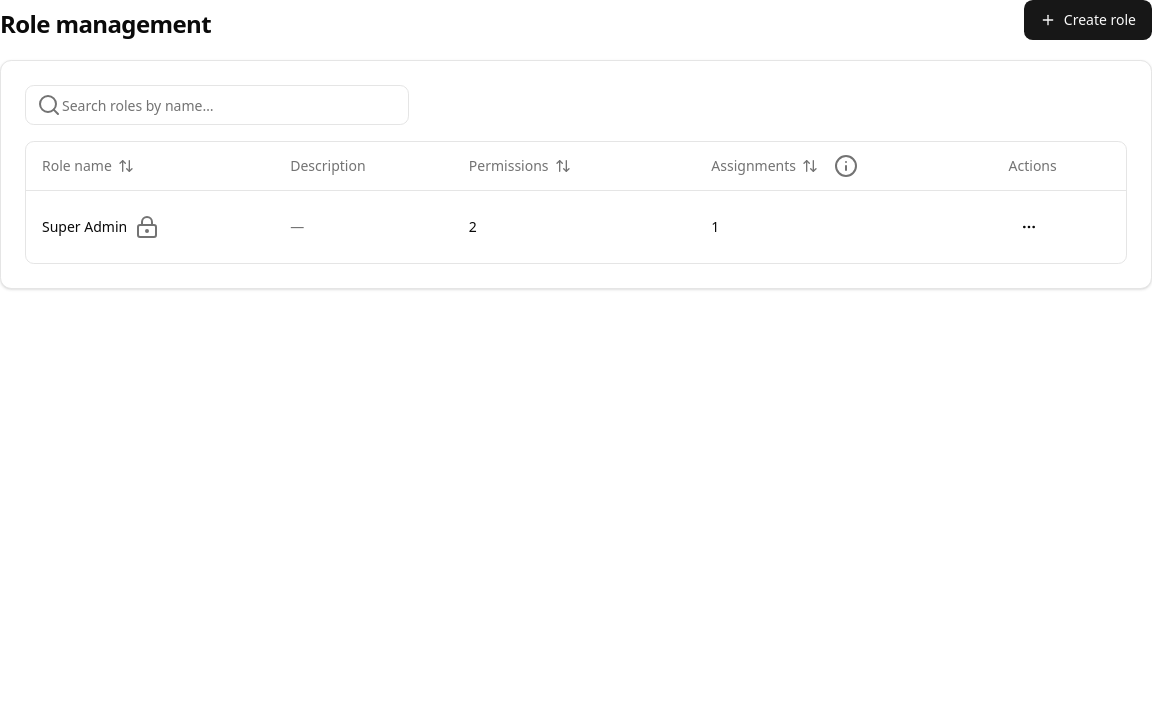
Test: access components › keeps a role draft when its dialog is closed and reopened
The width and height of the screenshot is (1152, 720).
Check: the heading "Role management" is shown, box [0,8,211,40]
Click the button "Create role" at (1088, 20), box [1024,0,1151,40]
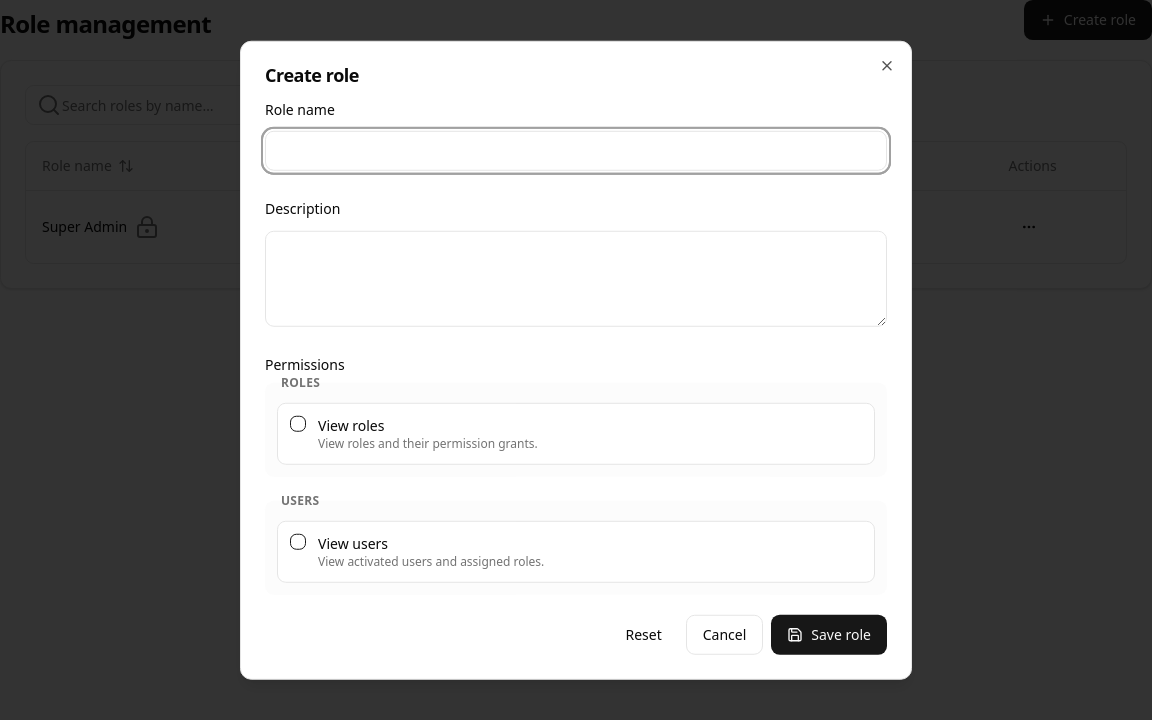
Type "Auditor" into the field labelled "Role name" at (576, 151), box [265,131,887,171]
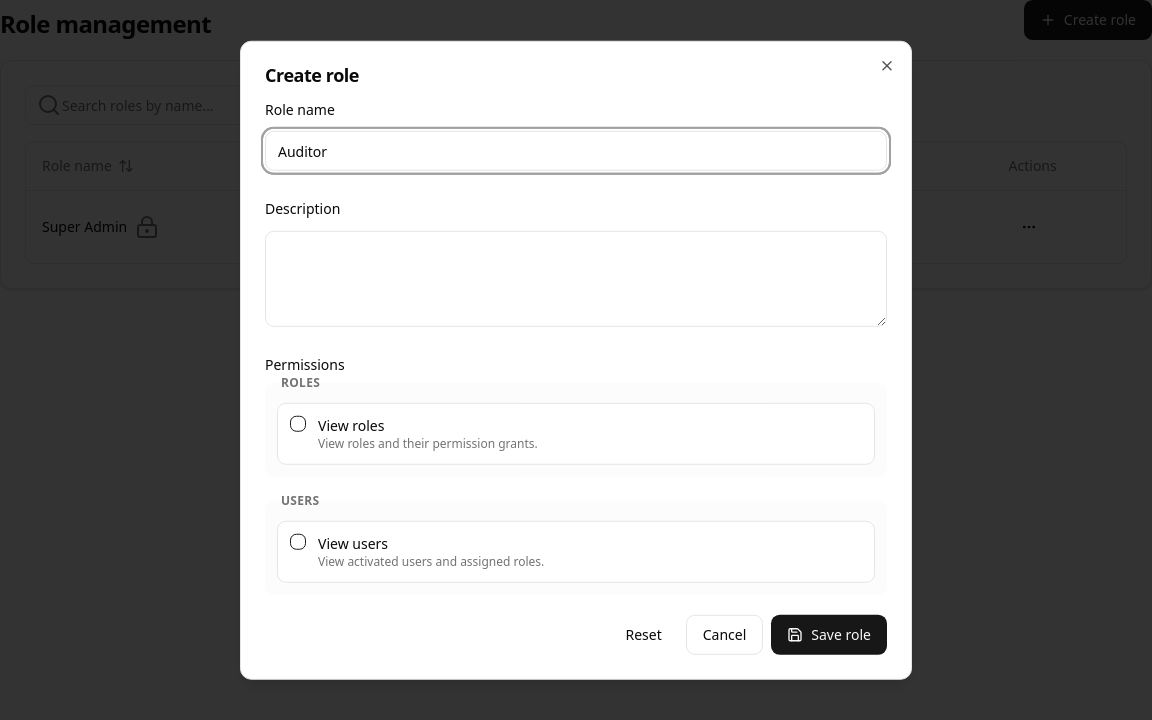
Click the button "Cancel" at (724, 634), box [686,614,763,654]
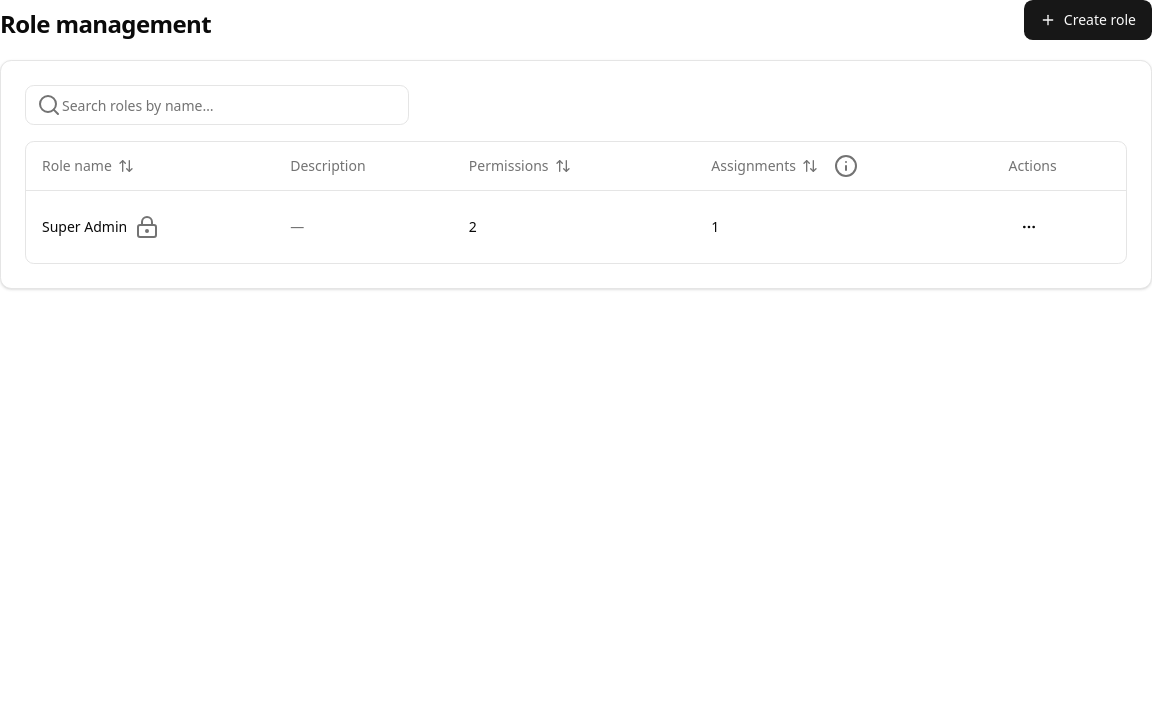
Click the button "Create role" at (1088, 20), box [1024,0,1151,40]
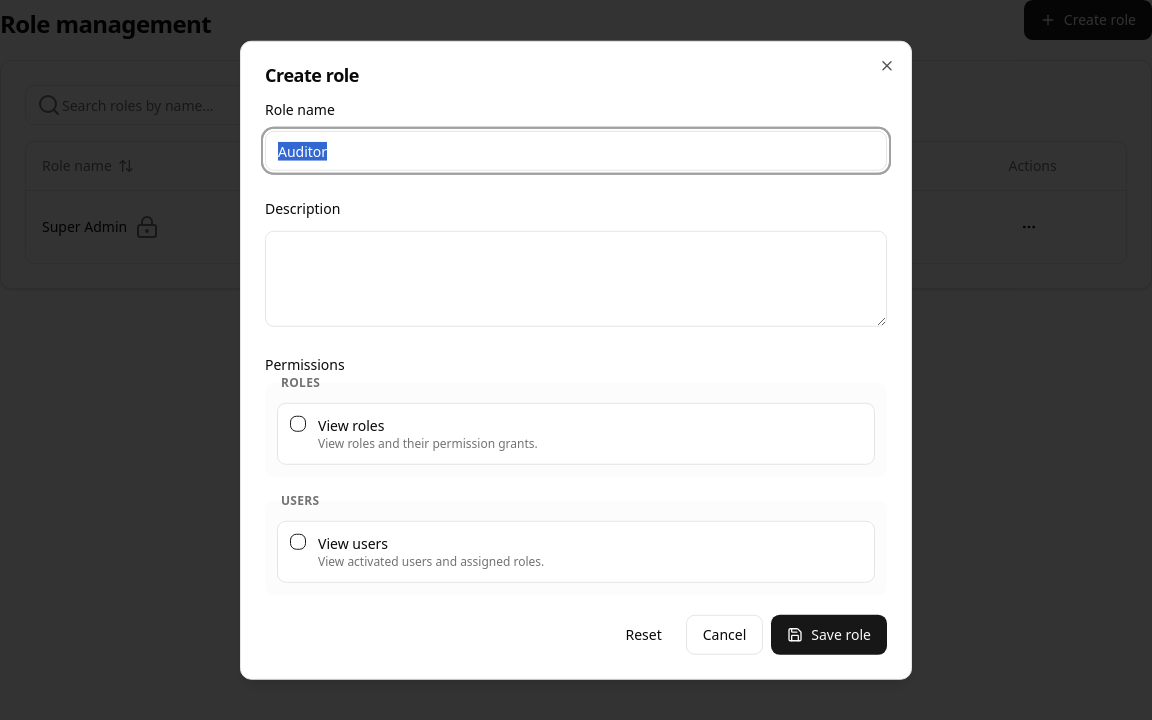
Check: the field showing "Auditor" is shown, box [265,131,887,171]
